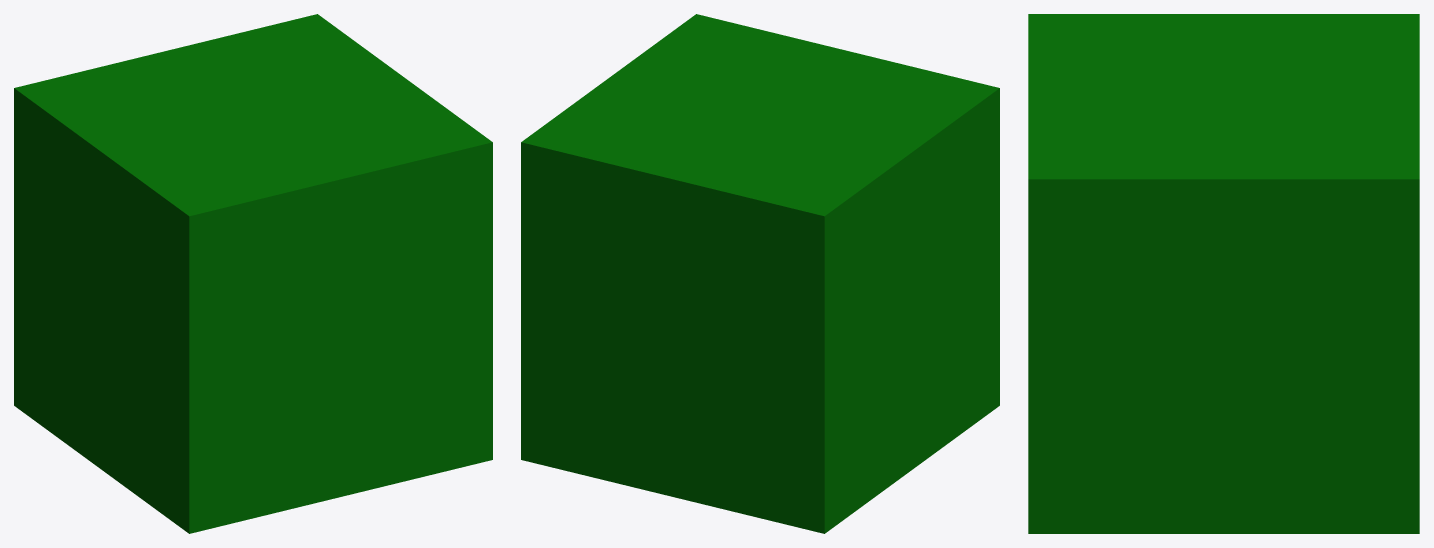
File: Green_cube.obj
3 renders of one model, left to right at view 1: azimuth 30°, elevation 25°; view 2: azimuth 150°, elevation 25°; view 3: azimuth 270°, elevation 25°, orthographic. The views are drawn at different scales.
Visible parts, largest first — view 1: 000_Box; view 2: 000_Box; view 3: 000_Box.
Part boxes in pixels (<box>): 000_Box: <box>14,14,492,533</box>; 000_Box: <box>521,14,999,533</box>; 000_Box: <box>1028,14,1419,533</box>.
Size of the model in its own units: 50 by 50 by 50.
Materials: 1 (1 with a texture image).
